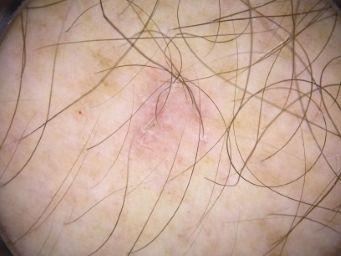melanoma: (134, 69, 207, 152)
